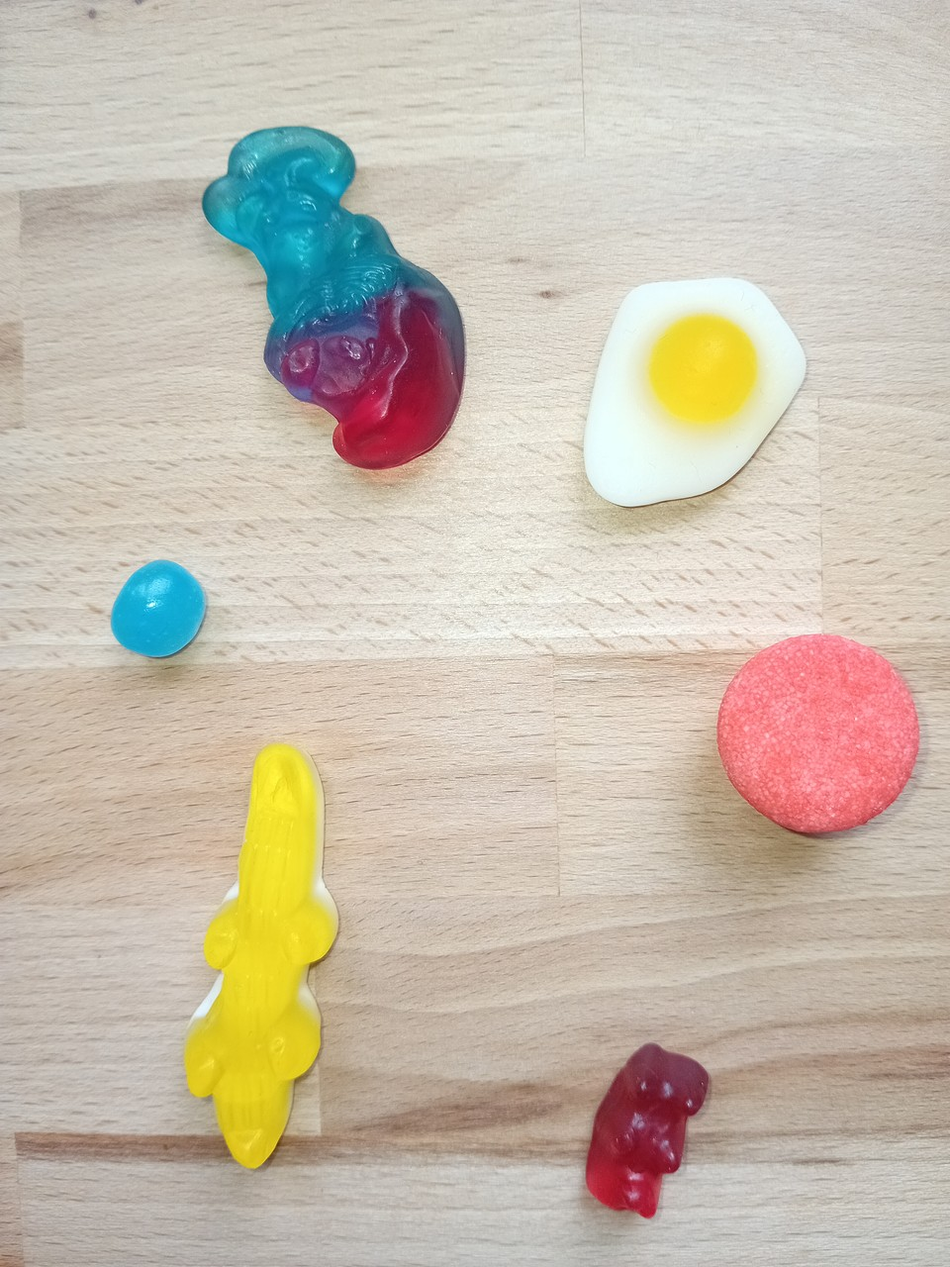crocodile_jaune: (182, 738, 344, 1179)
dragibus_bleu: (103, 553, 212, 664)
oeuf_oeuf: (569, 261, 813, 517)
ourson_rouge: (581, 1037, 714, 1233)
schtroumpf_bleu-rouge: (194, 121, 475, 484)
tagada_fraise: (709, 632, 927, 844)
